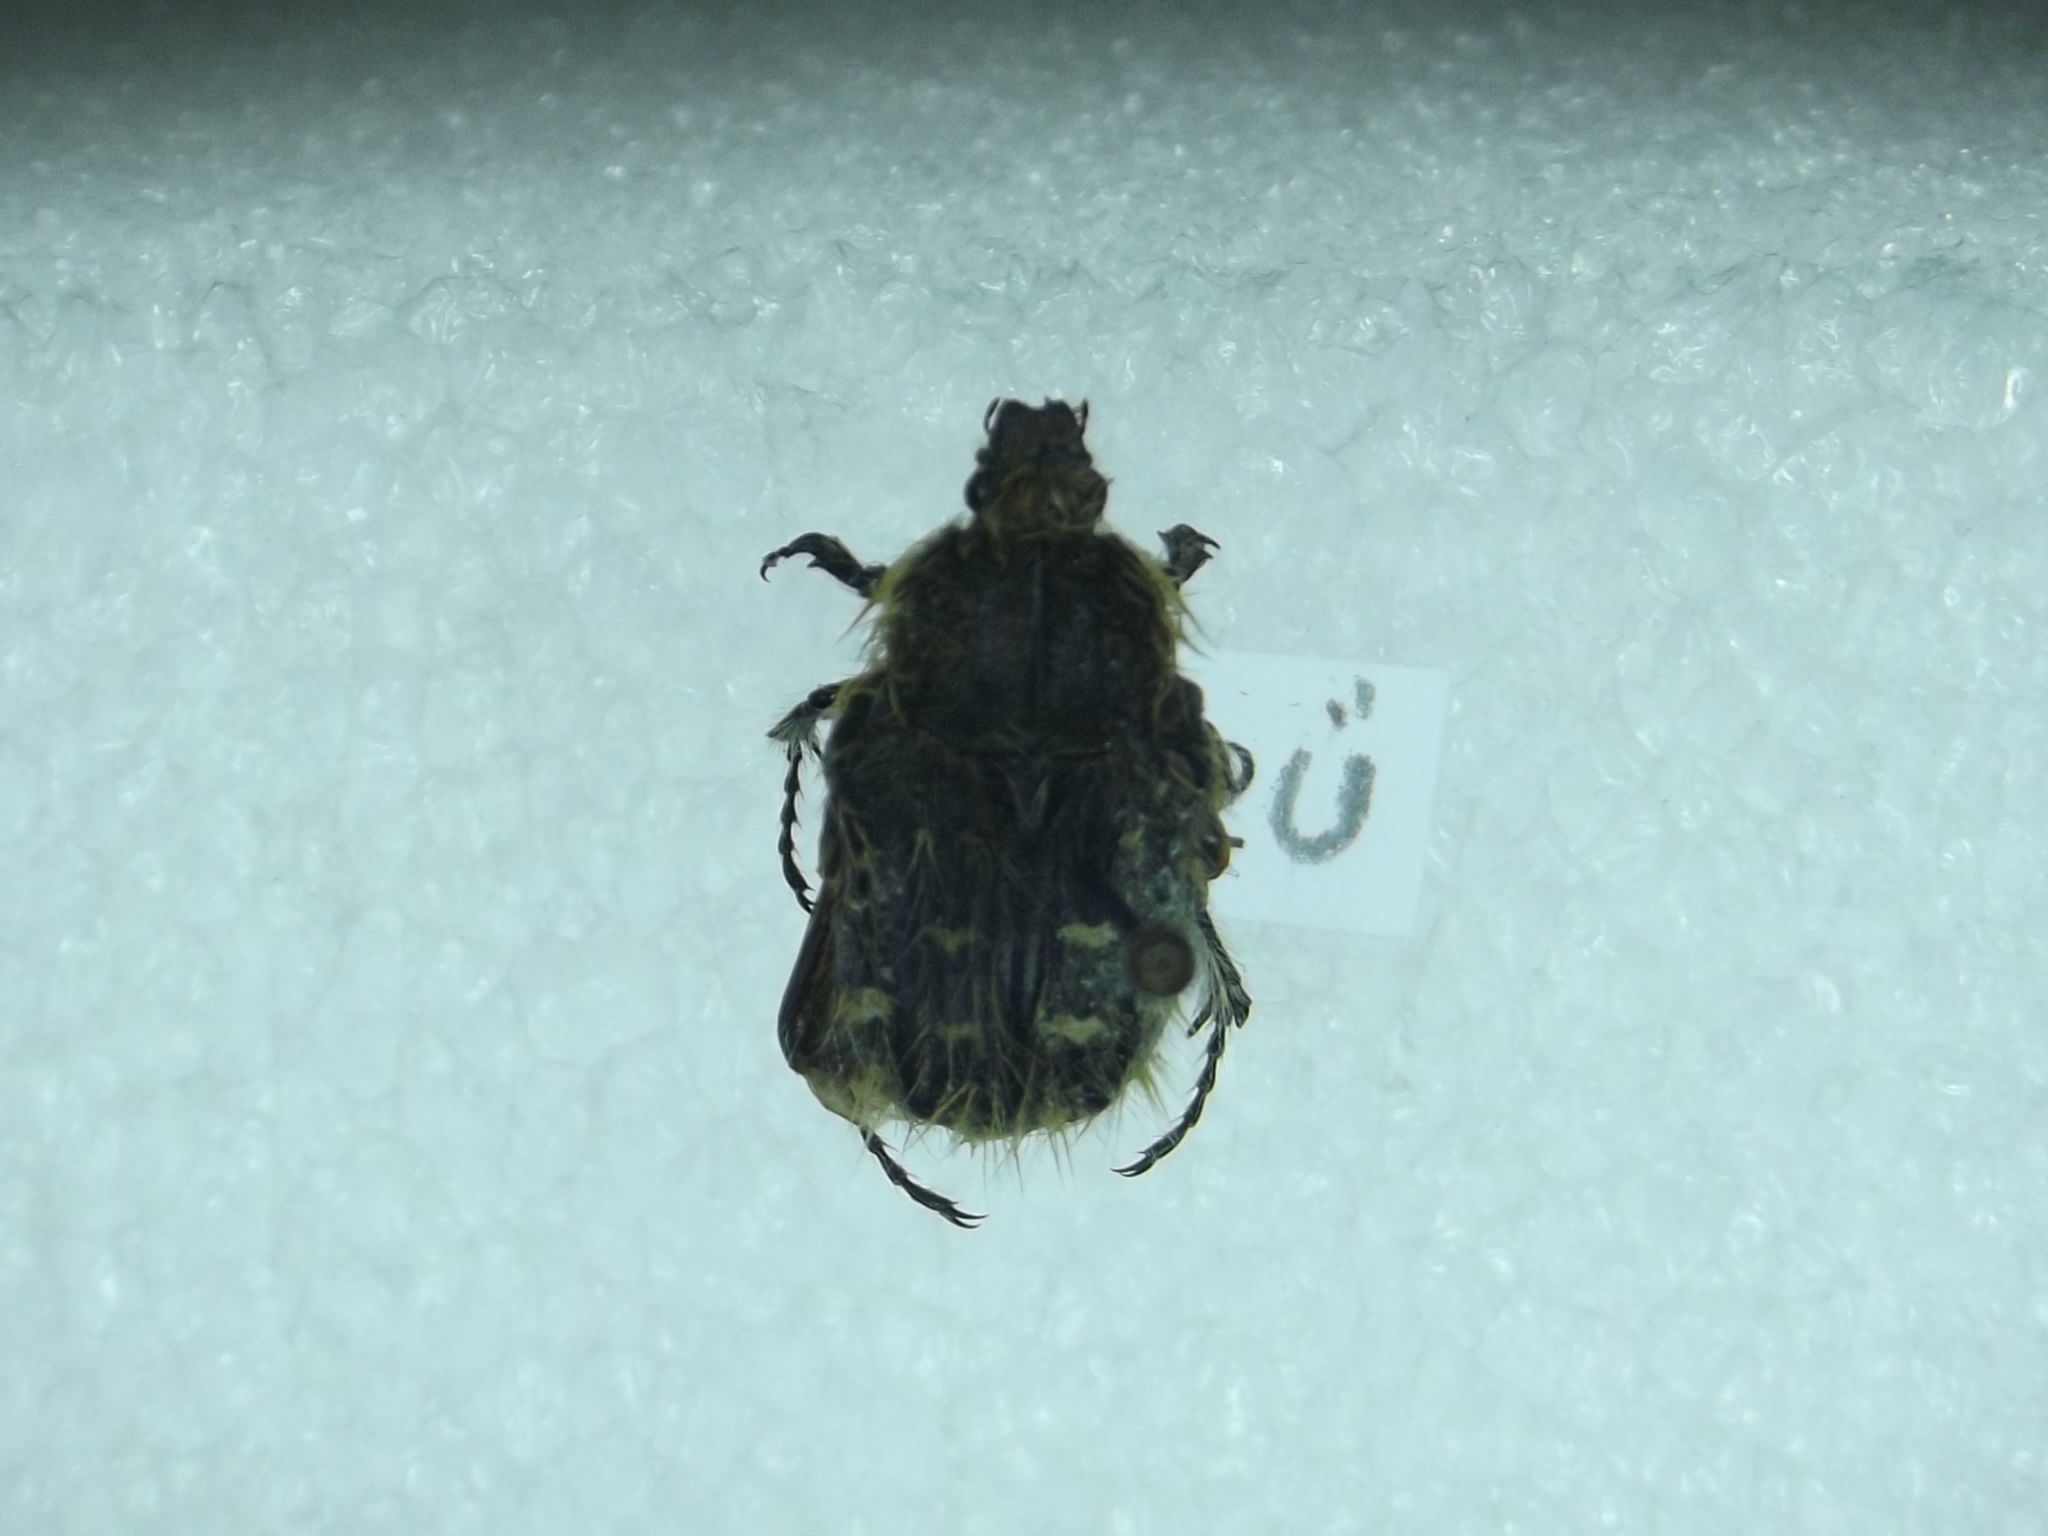Tropinota_hirta: (735, 352, 1290, 1267)
